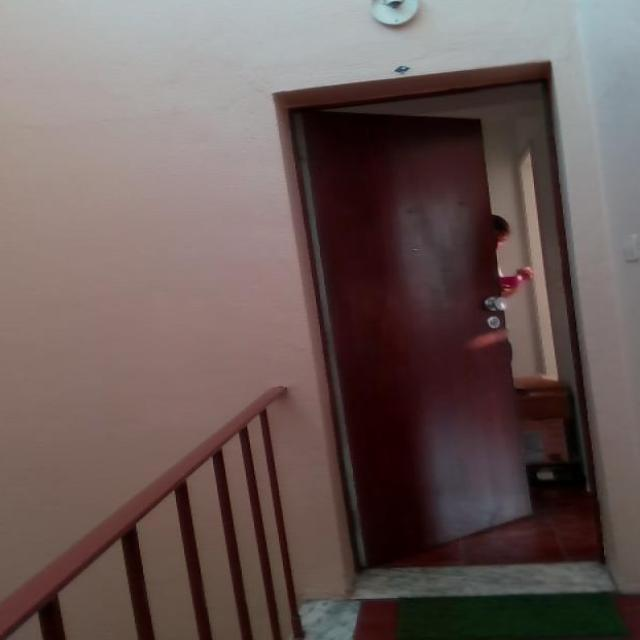door: (280, 99, 539, 576)
